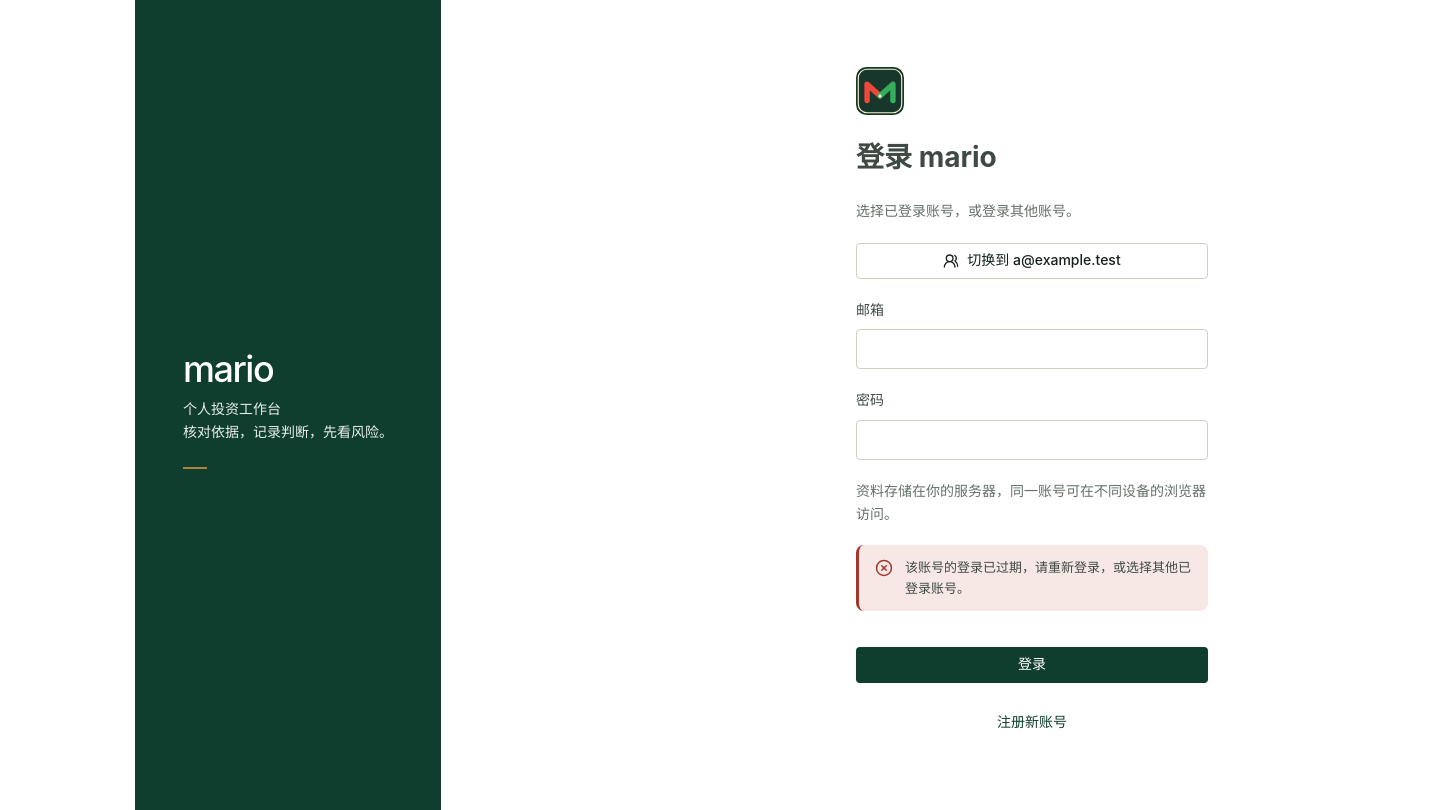
Test case: removes a revoked selected account while keeping another saved account available
Check: the button "登录" is shown, box [856,647,1208,683]
Click the button "切换到 a@example.test". click: [1032, 261]
box: [856,243,1208,279]
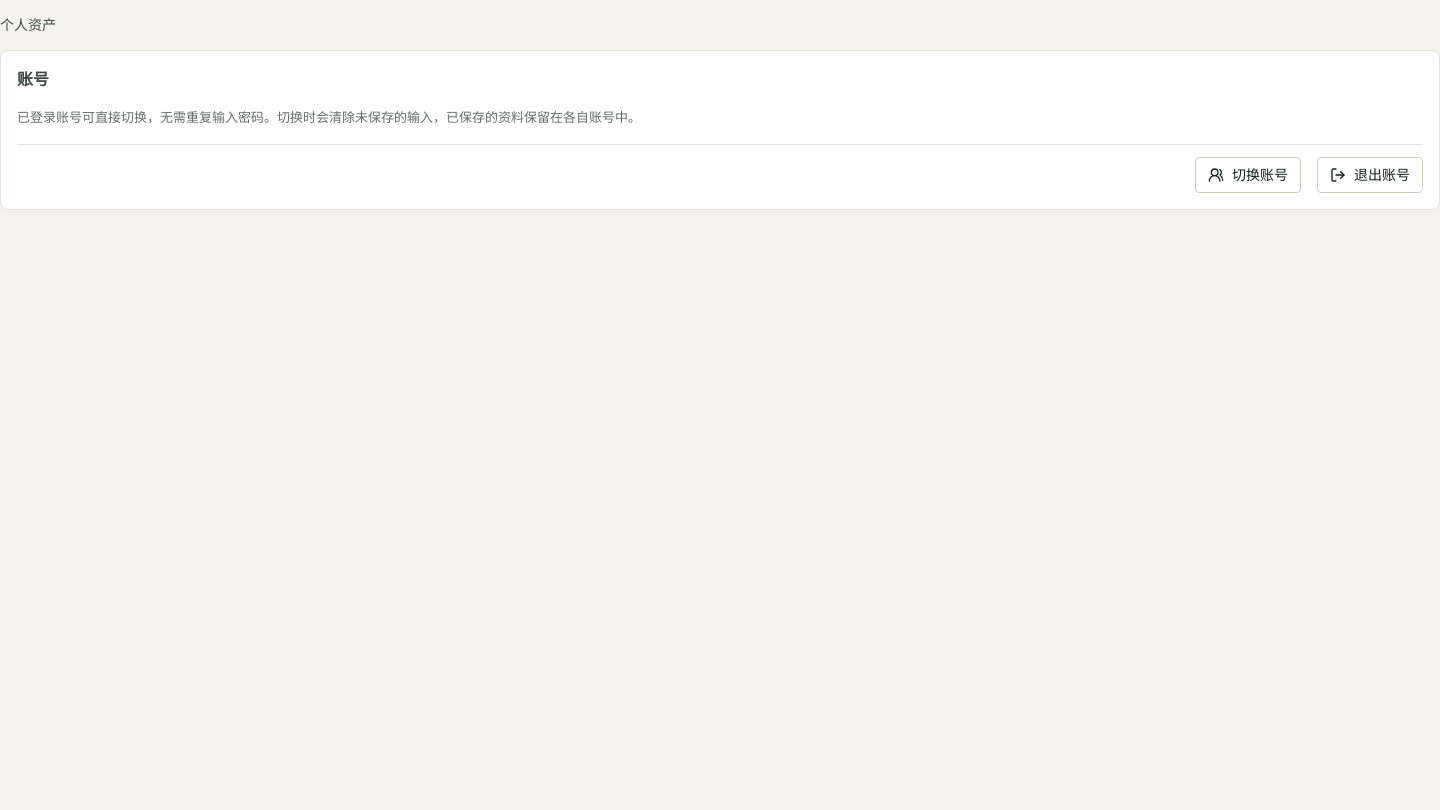
Check: the text "个人资产" is shown, box [0,16,56,33]
